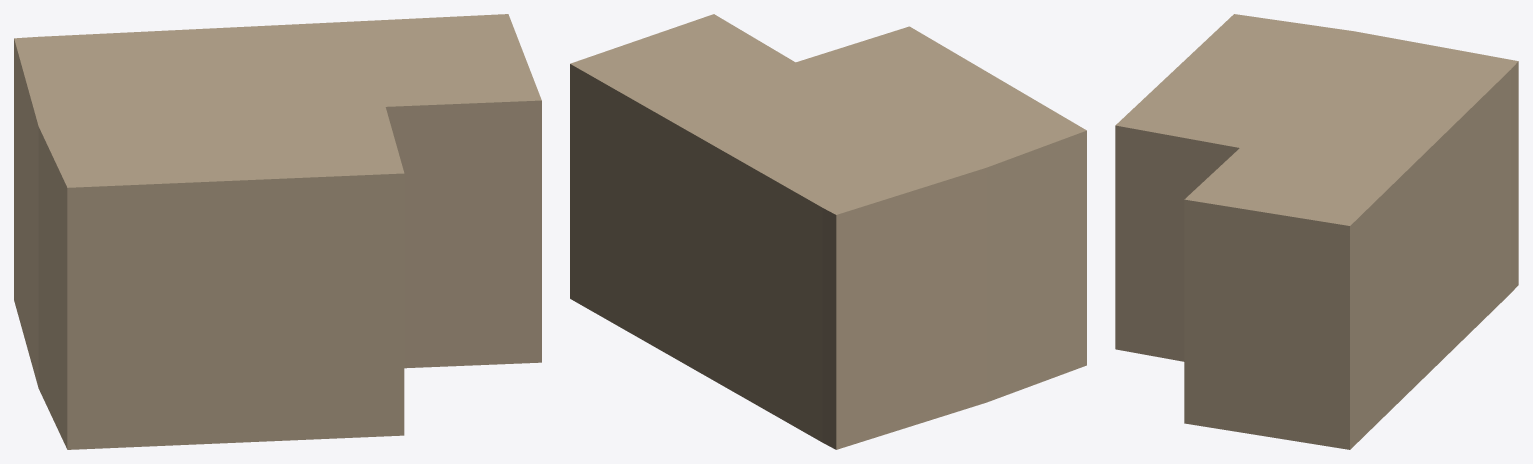
File: bld_98868816.dae
The picture shows the model from 3 angles, left to right: view 1: azimuth 30°, elevation 25°; view 2: azimuth 150°, elevation 25°; view 3: azimuth 270°, elevation 25°; orthographic projection. The views are drawn at different scales.
Visible parts, largest first — view 1: bld_98868816; view 2: bld_98868816; view 3: bld_98868816.
Part boxes in pixels (bbox=[...]): bld_98868816: bbox=[14, 14, 541, 449]; bld_98868816: bbox=[570, 14, 1086, 449]; bld_98868816: bbox=[1115, 14, 1518, 449].
Bounding box in the file's own units: 16.25 × 13.06 × 8.
